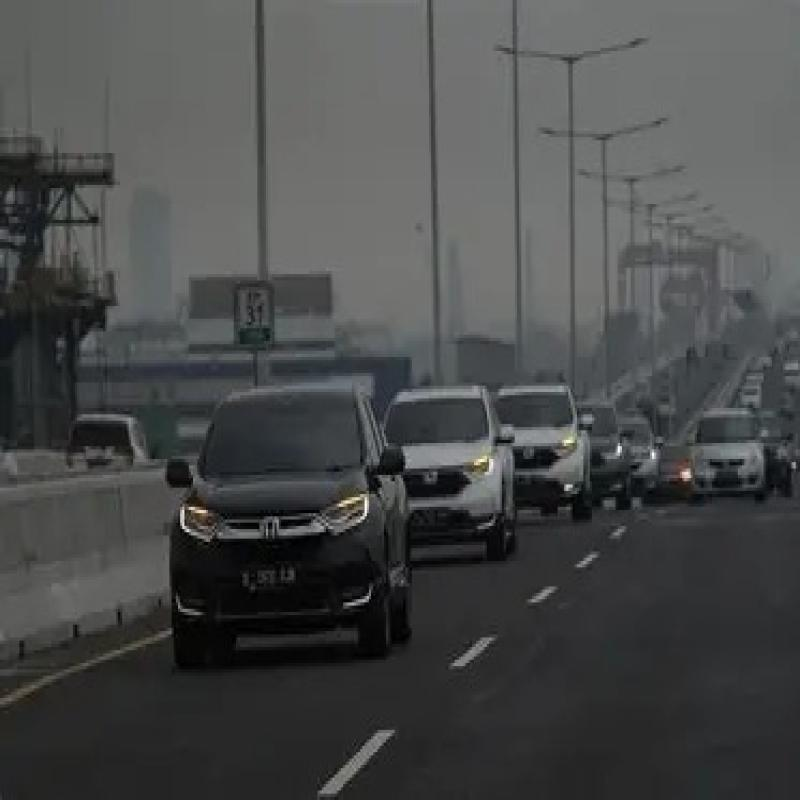license plate on a car: (236, 554, 310, 596), (417, 498, 456, 536)
